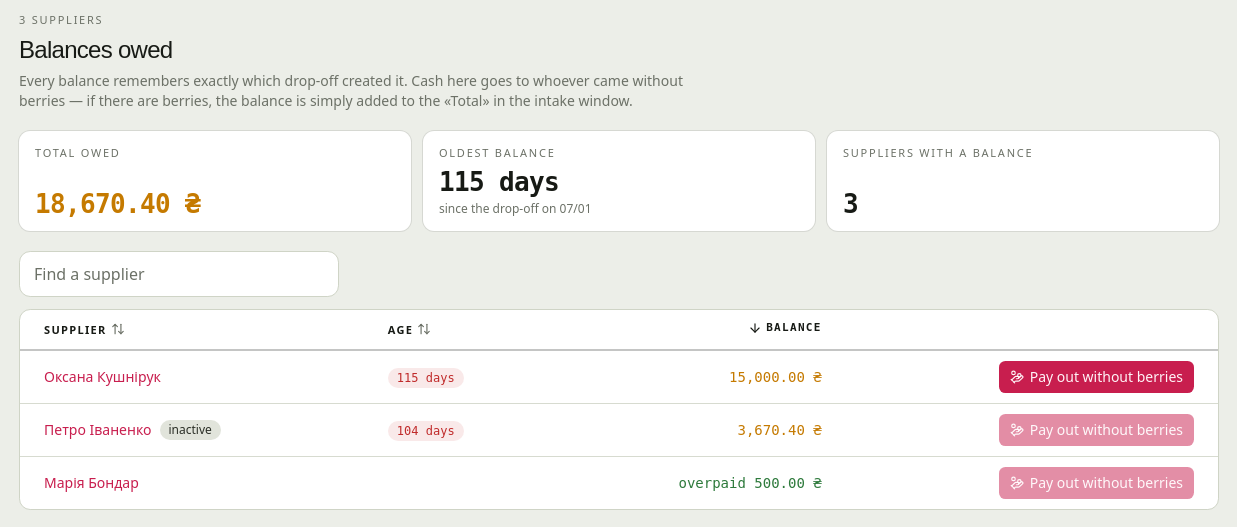
DebtsPage — the operator › shows "nobody found", not the settled empty state, when a search matches nothing
The width and height of the screenshot is (1237, 527).
Type "zzzzz" into the search field labelled "Find a supplier".
click(179, 274); type("zzzzz")  # box [19,251,339,297]
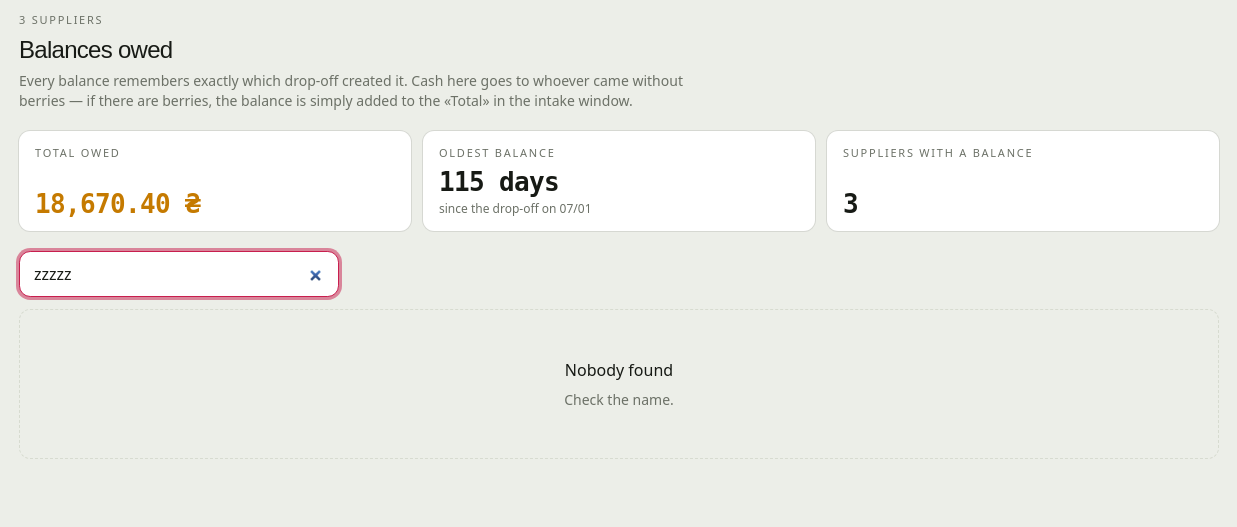
Expected: the text "Nobody found" is shown, [565,358,673,382]
Expected: the text "Check the name." is shown, [564,390,674,410]
